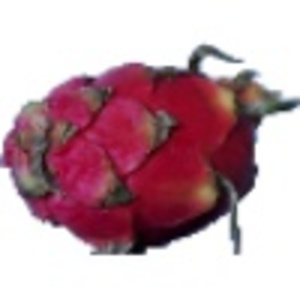pitaia: (1, 44, 300, 256)
